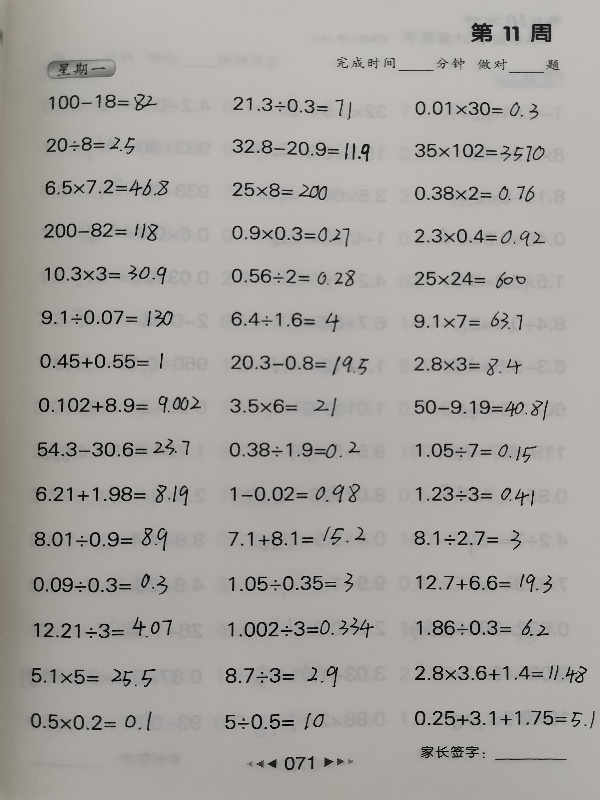equation: (407, 704, 597, 734), (408, 659, 590, 689), (31, 478, 191, 507), (31, 524, 172, 555), (224, 613, 377, 641), (35, 392, 205, 417), (30, 613, 175, 642), (29, 568, 171, 597), (33, 436, 193, 461), (411, 396, 553, 424), (223, 522, 368, 549), (227, 351, 372, 378), (412, 568, 555, 595), (229, 137, 373, 163), (227, 480, 364, 507), (27, 664, 159, 691), (225, 569, 357, 596), (27, 708, 156, 735), (222, 662, 342, 691), (38, 306, 177, 331), (411, 139, 548, 164), (229, 91, 355, 118), (228, 222, 353, 249), (413, 616, 553, 640), (411, 439, 540, 465), (41, 260, 169, 286), (225, 438, 363, 462), (227, 265, 358, 290), (411, 96, 542, 121), (411, 225, 548, 248), (40, 219, 161, 245), (42, 176, 173, 200), (410, 306, 526, 333), (412, 482, 537, 507), (411, 527, 525, 554), (411, 182, 539, 206), (35, 349, 166, 372), (227, 308, 342, 334), (228, 393, 343, 419), (412, 268, 530, 293), (410, 353, 525, 378), (46, 90, 161, 115), (222, 710, 328, 734), (229, 178, 331, 202), (43, 133, 138, 158)
